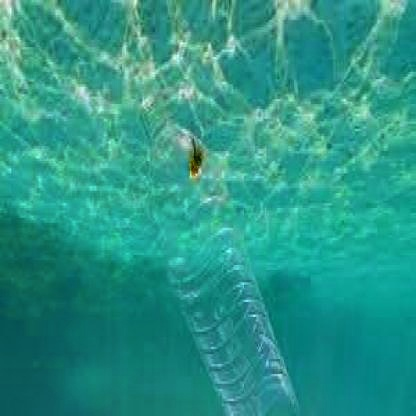pbottle: (127, 86, 305, 416)
